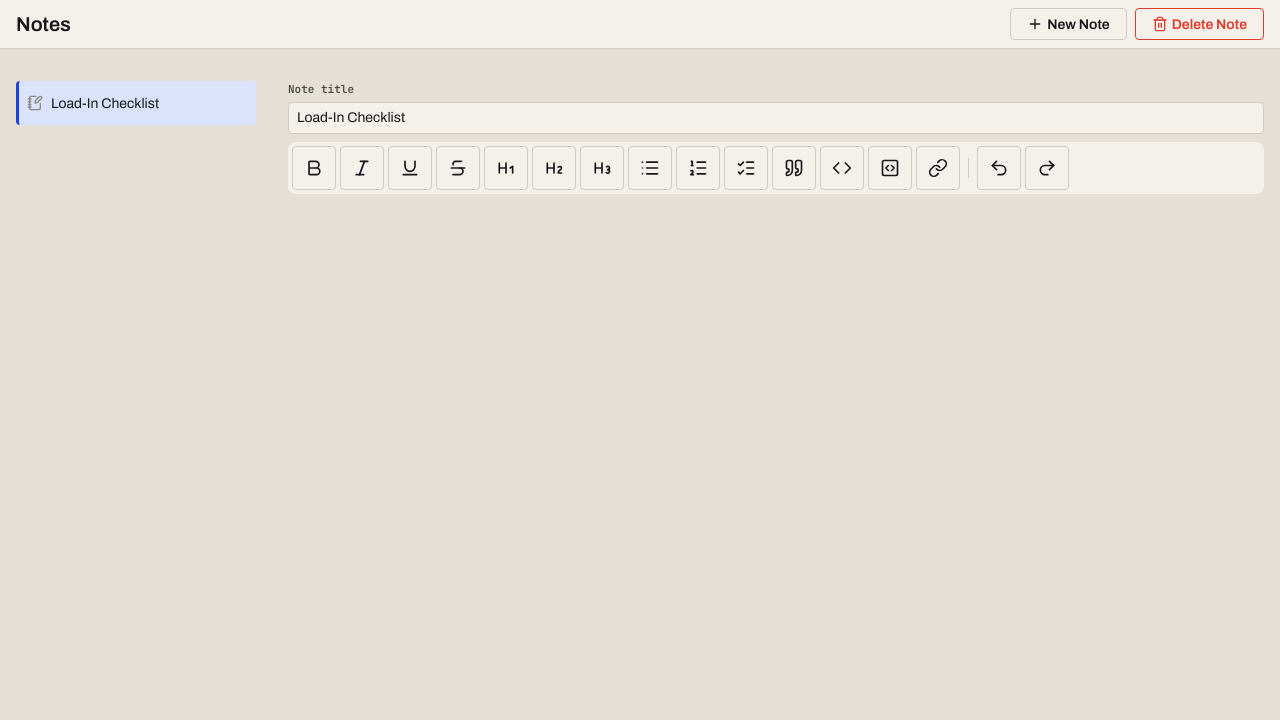
Test case: NotesWorkspace › deletes a note through the confirmation dialog
Check: the field labelled "Note title" holds "Load-In Checklist", box [288,102,1264,134]
Click the button "Delete Note". click: (1199, 24)
box: [1135,8,1264,40]
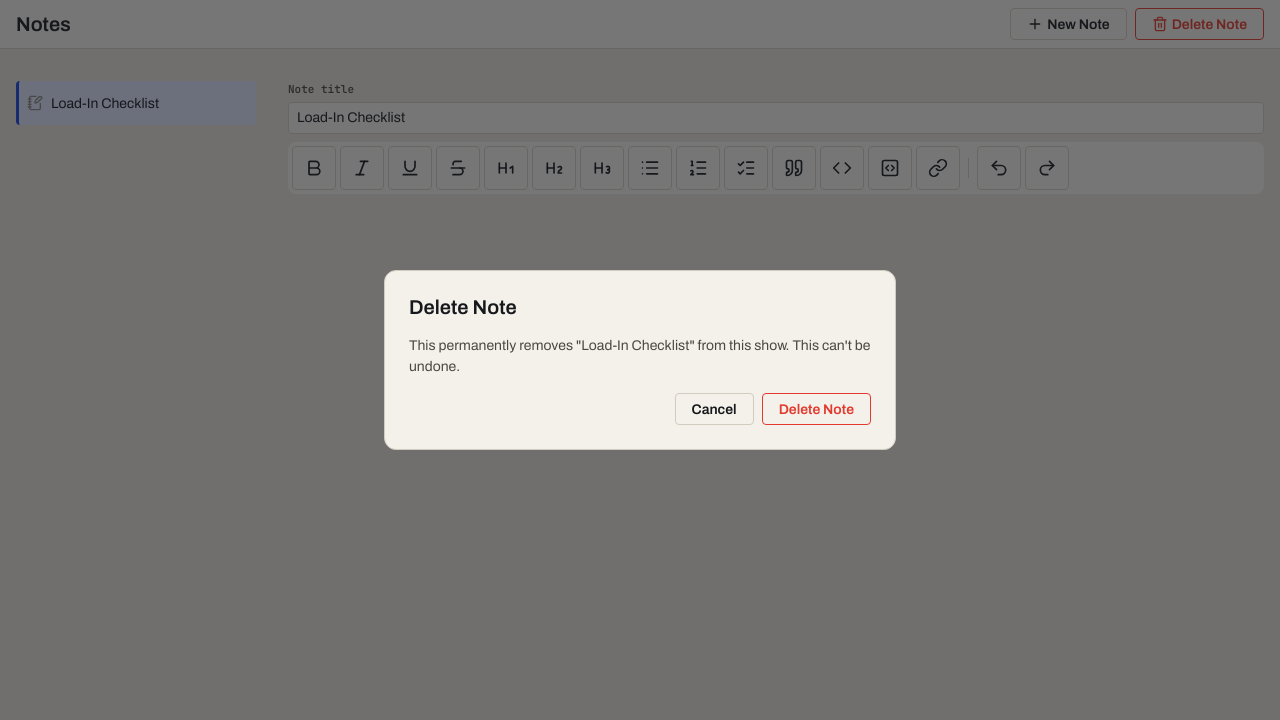
Click the button "Delete Note". click: (816, 409)
box: [762,393,871,425]
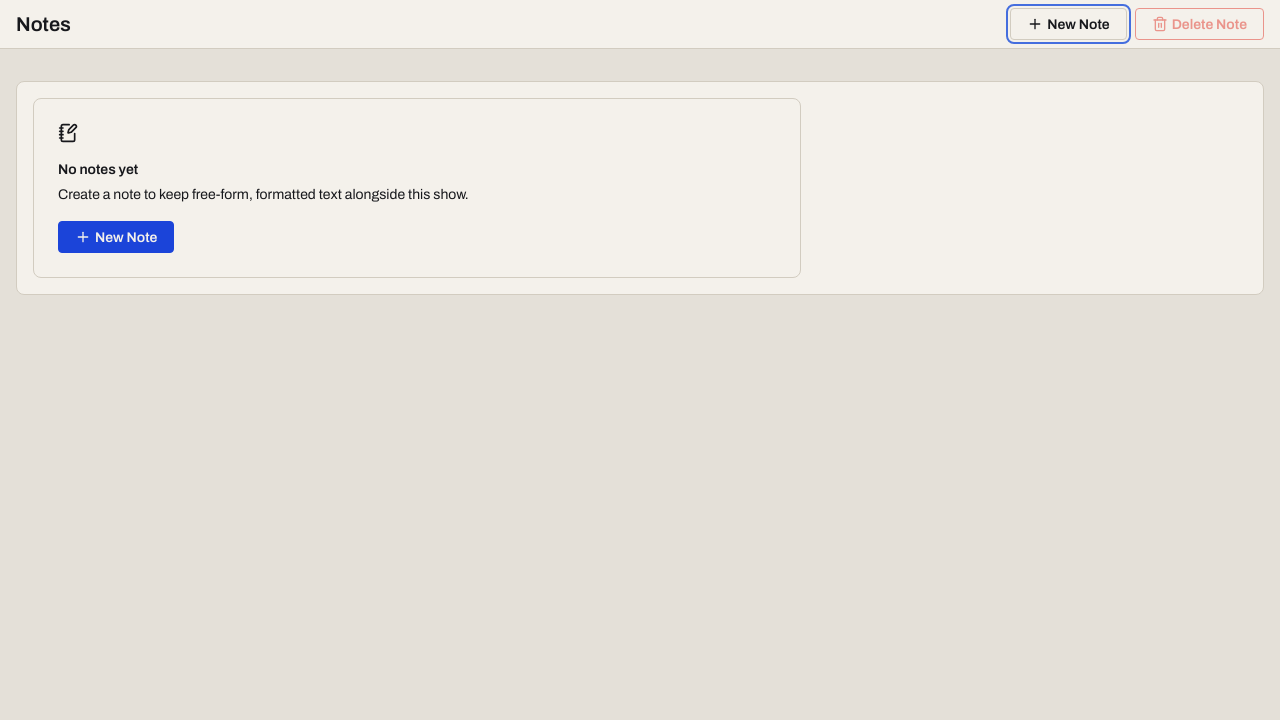
Check: the heading "No notes yet" is shown, box [58,162,138,177]
